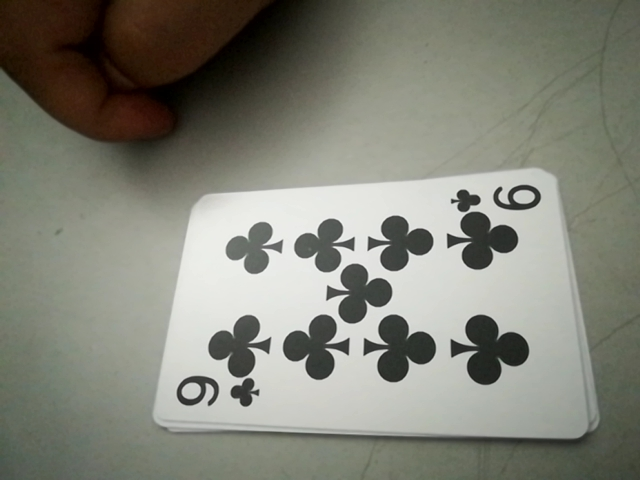mh 9: (167, 369, 267, 423), (449, 177, 550, 218)
